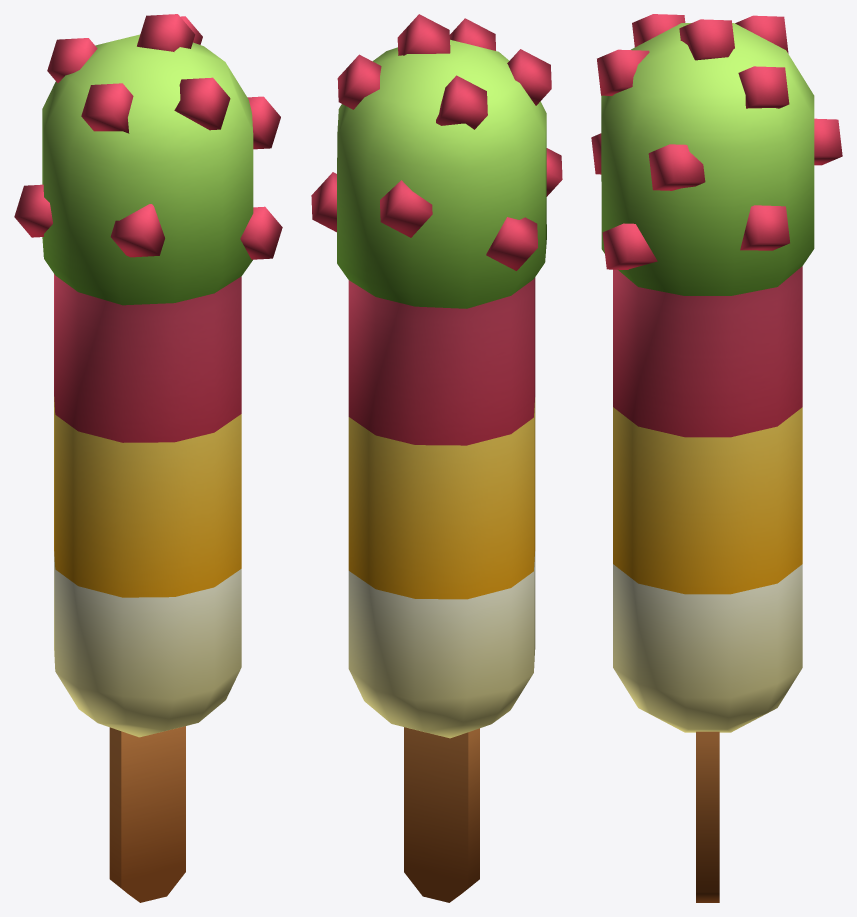
The model's file is m_CactusPopsicle01.fbx.
3 renders of one model, left to right at view 1: azimuth 30°, elevation 25°; view 2: azimuth 150°, elevation 25°; view 3: azimuth 270°, elevation 25°, orthographic. The views are drawn at different scales.
Parts seen in each view (by area): view 1: m_CactusPopsicle01; view 2: m_CactusPopsicle01; view 3: m_CactusPopsicle01.
Boxes of the visible parts, x1,y1,x2,y2 form: m_CactusPopsicle01: [14, 14, 282, 902]; m_CactusPopsicle01: [311, 14, 562, 902]; m_CactusPopsicle01: [591, 14, 842, 902].
Bounding box in the file's own units: 6.64 × 24.02 × 6.15.
